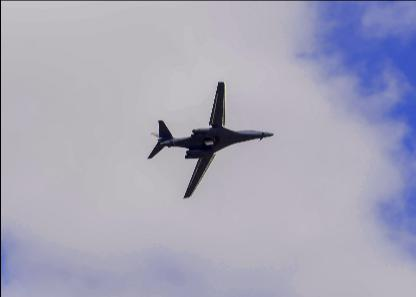AV8B: (146, 80, 272, 198)
